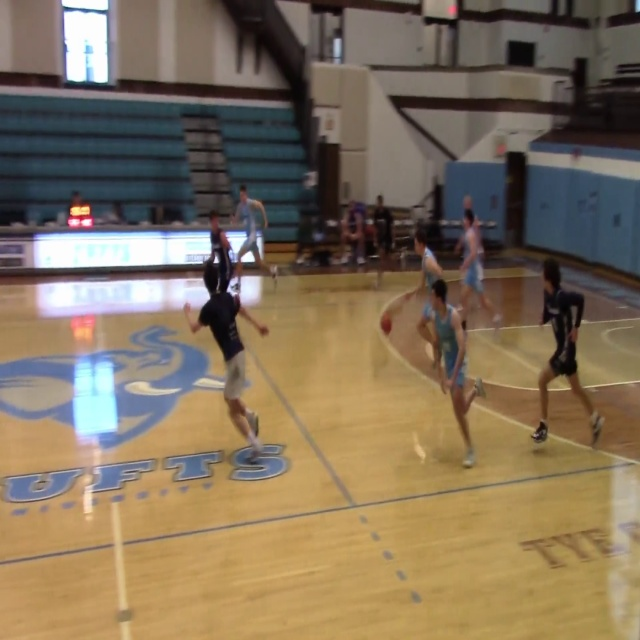Basketball: (380, 312, 392, 334)
